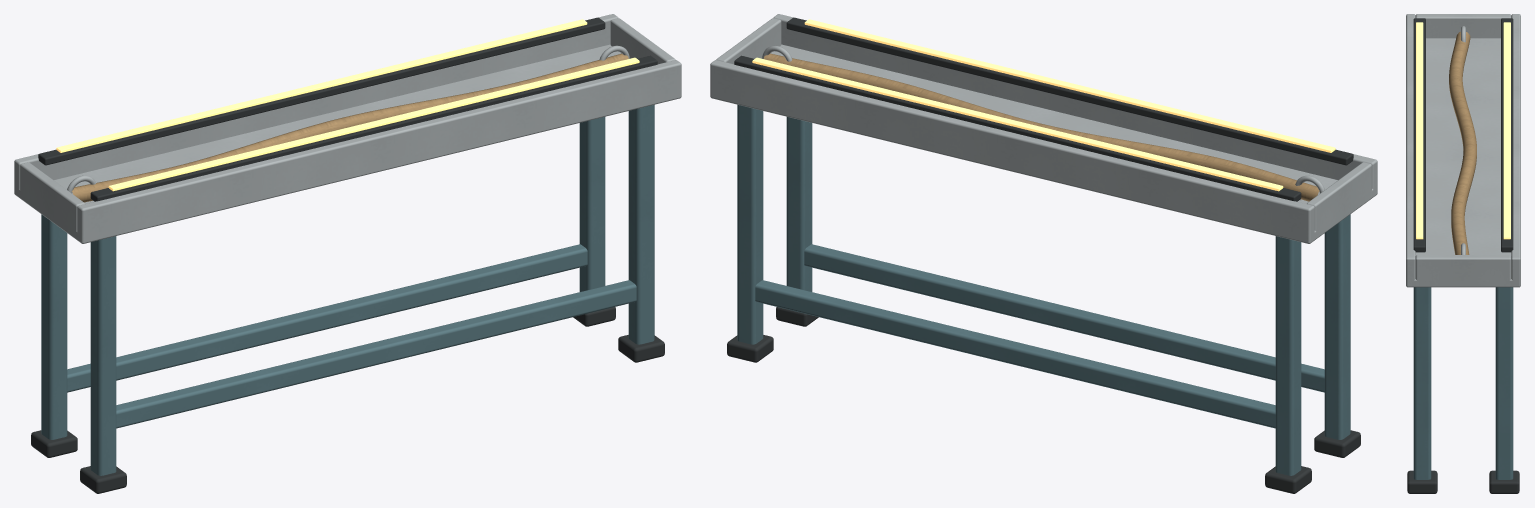
File: gorgehold-survivor-gallery-and-operations-rope-inspect-377e2005__32862.glb
The picture shows the model from 3 angles, left to right: view 1: azimuth 30°, elevation 25°; view 2: azimuth 150°, elevation 25°; view 3: azimuth 270°, elevation 25°; orthographic projection. The views are drawn at different scales.
Visible parts, largest first — view 1: rope-inspection-illuminated-trough; view 2: rope-inspection-illuminated-trough; view 3: rope-inspection-illuminated-trough.
Part boxes in pixels (box(x1,y1,x2,y2)): rope-inspection-illuminated-trough: box(14, 14, 681, 493); rope-inspection-illuminated-trough: box(710, 14, 1377, 493); rope-inspection-illuminated-trough: box(1406, 14, 1520, 493).
Bounding box in the file's own units: 2.12 × 1 × 0.42.
5 materials, 3 textured.
